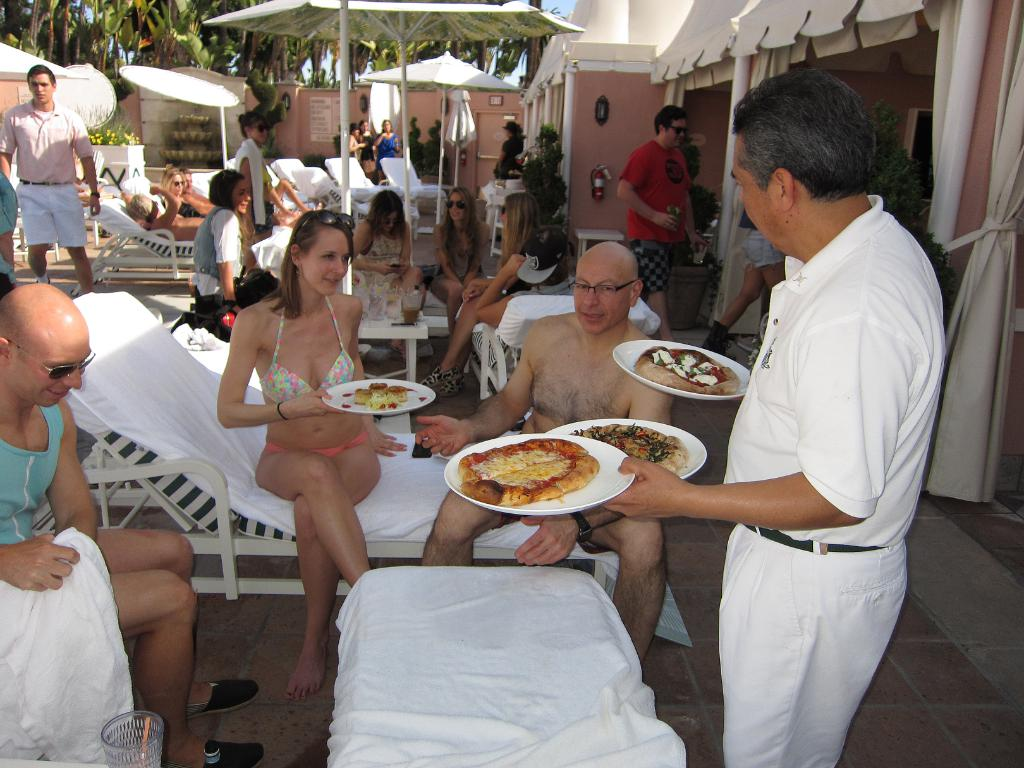Pizza: (453, 431, 602, 504), (560, 416, 689, 484), (636, 348, 737, 389), (366, 378, 391, 399), (386, 381, 411, 402), (350, 387, 375, 402)
